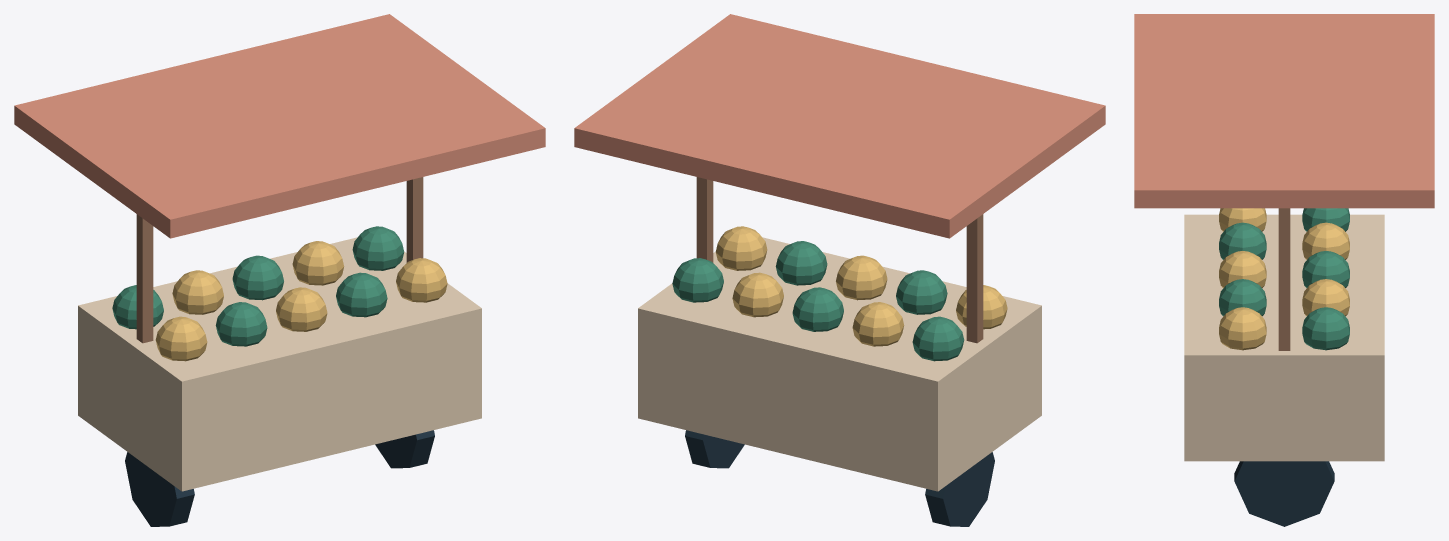
File: marketCart.obj
The picture shows the model from 3 angles, left to right: view 1: azimuth 30°, elevation 25°; view 2: azimuth 150°, elevation 25°; view 3: azimuth 270°, elevation 25°; orthographic projection. The views are drawn at different scales.
Visible parts, largest first — view 1: marketCart; view 2: marketCart; view 3: marketCart.
Part boxes in pixels (left/top/right/bottom): marketCart: left=14, top=14, right=545, bottom=526; marketCart: left=574, top=14, right=1105, bottom=526; marketCart: left=1134, top=14, right=1434, bottom=526.
Size of the model in its own units: 2.5 by 2.41 by 1.8.
